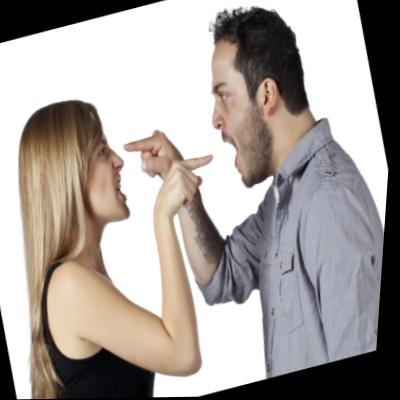angry: (195, 44, 286, 192), (75, 115, 144, 230)
